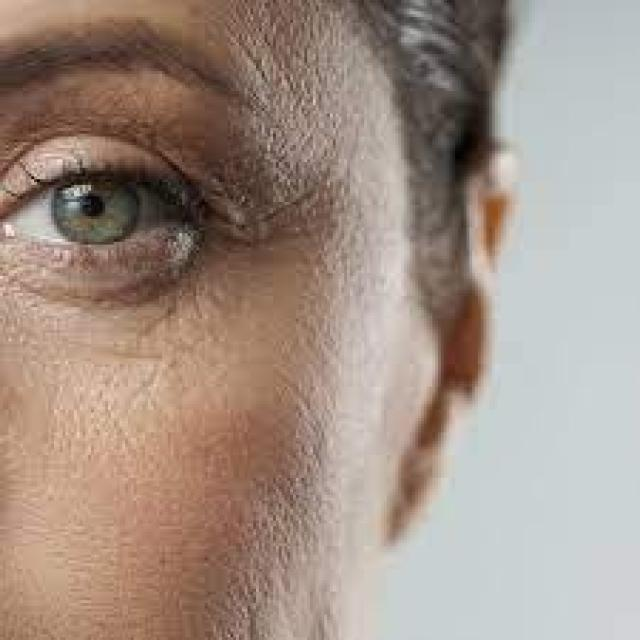Dry-Skin: (181, 96, 375, 264), (45, 283, 252, 396), (173, 552, 320, 640)
